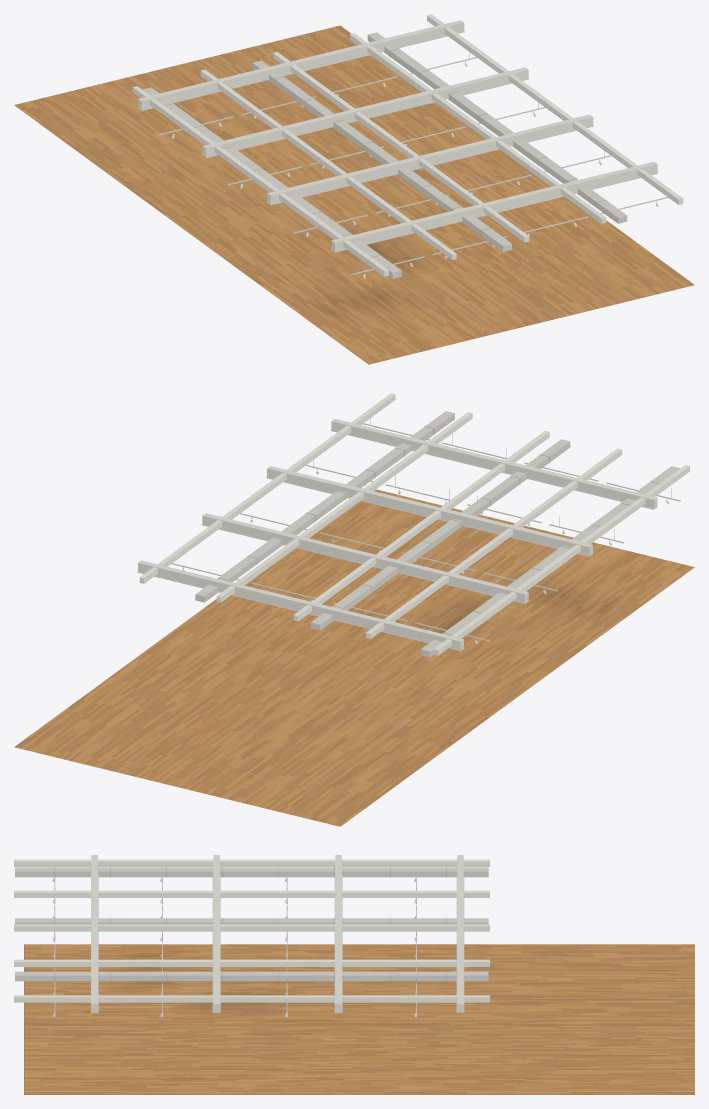
File: oak-and-lighting.glb
The picture shows the model from 3 angles, top to bottom: view 1: azimuth 30°, elevation 25°; view 2: azimuth 150°, elevation 25°; view 3: azimuth 270°, elevation 25°; orthographic projection. The views are drawn at different scales.
Parts seen in each view (by area): view 1: UniqloSalesFloor; view 2: UniqloSalesFloor; view 3: UniqloSalesFloor.
Boxes of the visible parts, x1=… form: UniqloSalesFloor: x1=14, y1=14, x2=694, y2=364; UniqloSalesFloor: x1=14, y1=393, x2=694, y2=826; UniqloSalesFloor: x1=14, y1=855, x2=694, y2=1094.
Size of the model in its own units: 17.04 by 4.73 by 32.39.
Materials: 1 (1 with a texture image).
